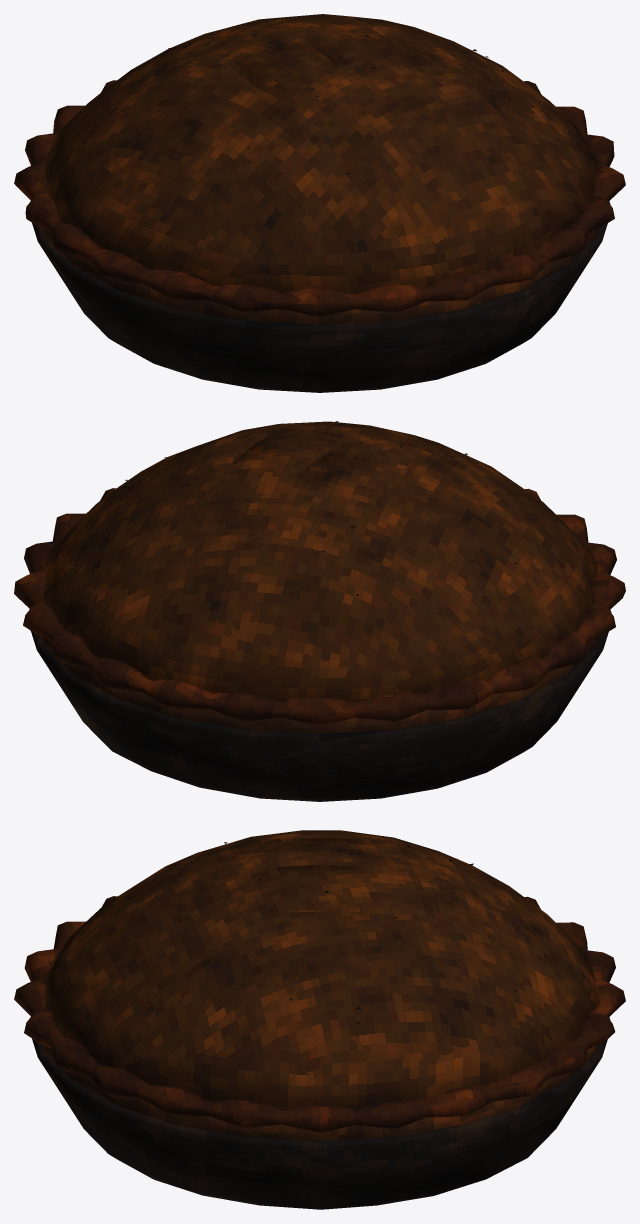
Rendered from pie_ps2_burnt.glb.
3 views of the same model, one above another, from view 1: azimuth 30°, elevation 25°; view 2: azimuth 150°, elevation 25°; view 3: azimuth 270°, elevation 25° (orthographic).
Parts seen in each view (by area): view 1: PS2_Burnt_Domed_Pie; view 2: PS2_Burnt_Domed_Pie; view 3: PS2_Burnt_Domed_Pie.
Boxes of the visible parts, x1,y1,x2,y2 form: PS2_Burnt_Domed_Pie: (14, 14, 625, 392); PS2_Burnt_Domed_Pie: (14, 421, 625, 801); PS2_Burnt_Domed_Pie: (14, 830, 625, 1209).
Bounding box in the file's own units: 0.3101 × 0.1381 × 0.3101.
Materials: 1 (1 with a texture image).
